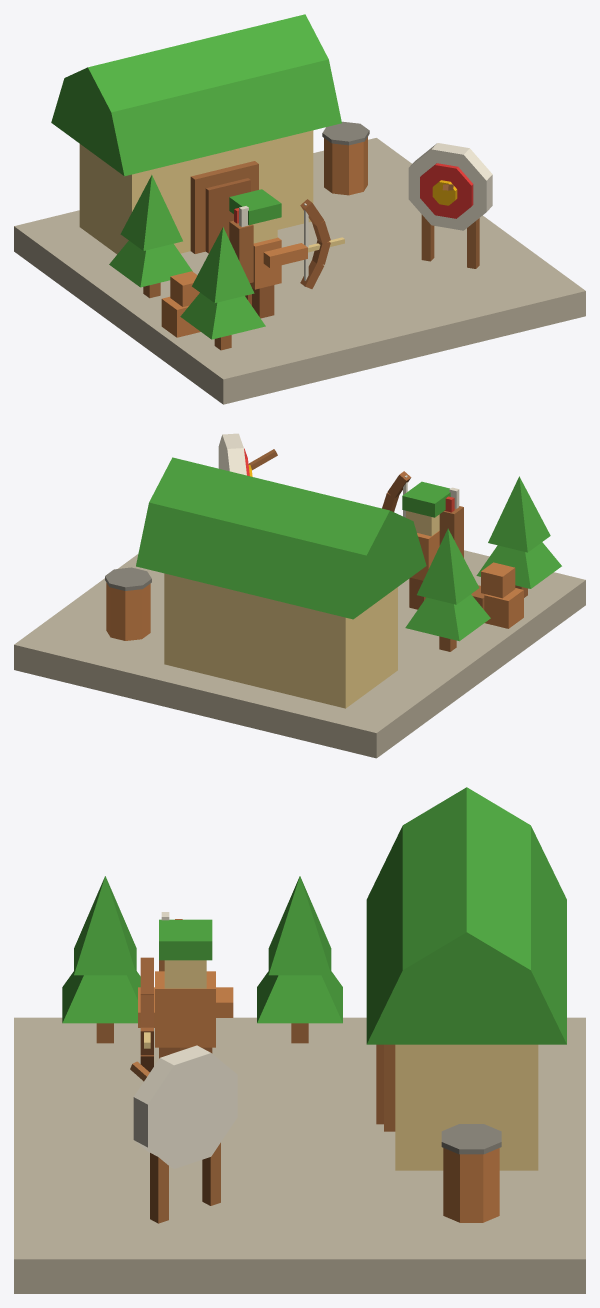
File: archery_range_t1_v3.glb
The picture shows the model from 3 angles, top to bottom: view 1: azimuth 30°, elevation 25°; view 2: azimuth 150°, elevation 25°; view 3: azimuth 270°, elevation 25°; orthographic projection. The views are drawn at different scales.
Parts seen in each view (by area): view 1: archery_range_t1_v3; view 2: archery_range_t1_v3; view 3: archery_range_t1_v3.
Part boxes in pixels (box(x1,y1,x2,y2)): archery_range_t1_v3: box(14, 14, 585, 404); archery_range_t1_v3: box(14, 433, 585, 758); archery_range_t1_v3: box(14, 787, 585, 1293).
Size of the model in its own units: 0.6 by 0.33 by 0.6.
Materials: 1 (1 with a texture image).
